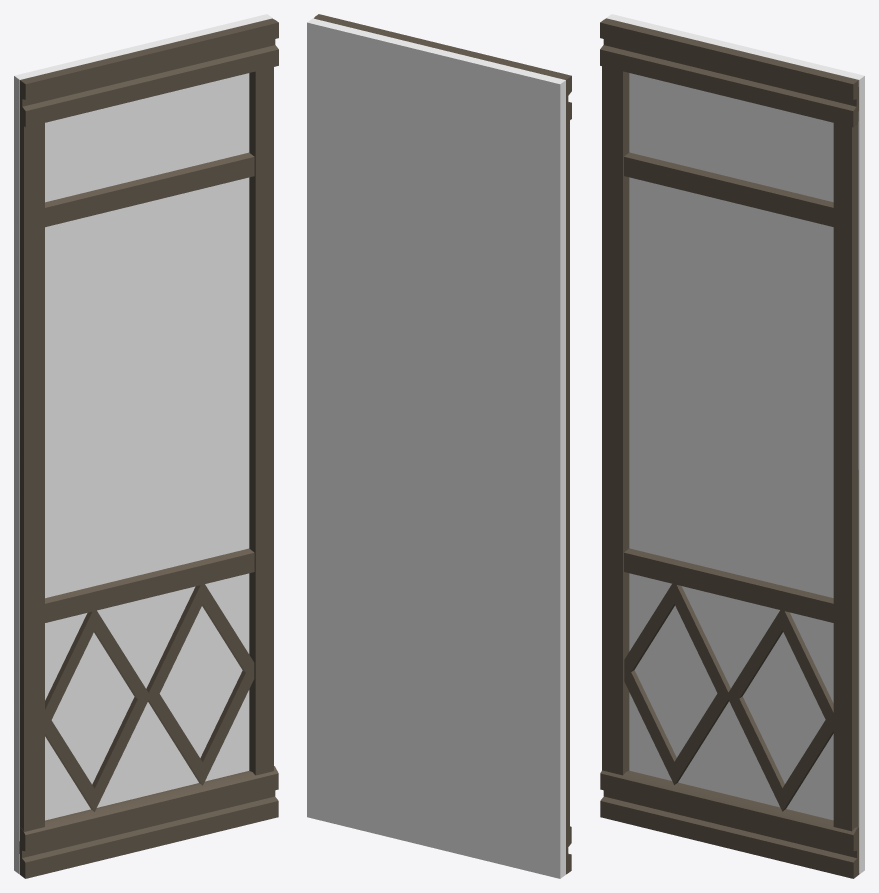
The model's file is WALL_01_1.fbx.
3 renders of one model, left to right at view 1: azimuth 30°, elevation 25°; view 2: azimuth 150°, elevation 25°; view 3: azimuth 330°, elevation 25°, orthographic.
Visible parts, largest first — view 1: WALL_01_1; view 2: WALL_01_1; view 3: WALL_01_1.
Part boxes in pixels (x1=…): WALL_01_1: x1=14, y1=14, x2=278, y2=878; WALL_01_1: x1=307, y1=14, x2=571, y2=878; WALL_01_1: x1=600, y1=14, x2=864, y2=878.
Size of the model in its own units: 100 by 300 by 8.
